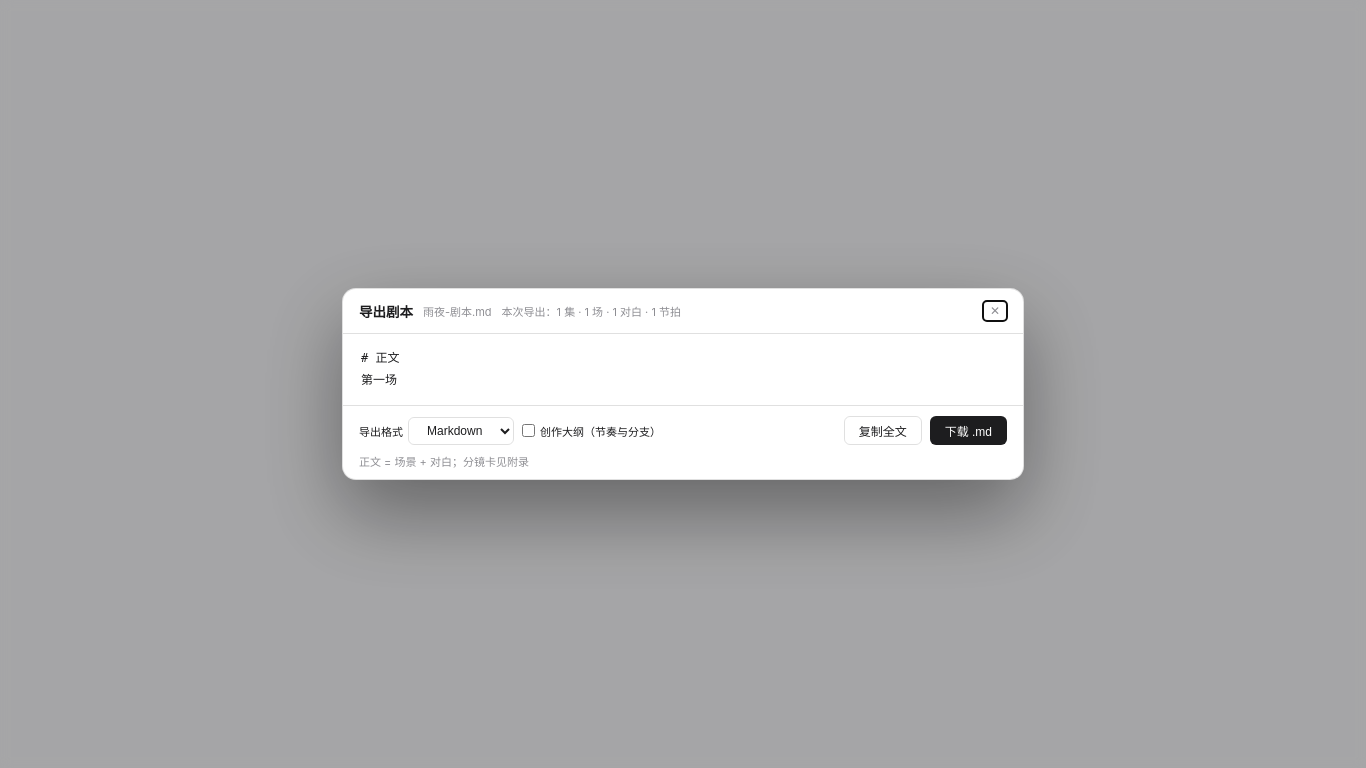
ExportDialog（复制与文本生命周期，review #81） › 成功回执在导出文本更新时立即清除
The image size is (1366, 768).
Click the button "复制全文": click(883, 431) left=844, top=416, right=922, bottom=445
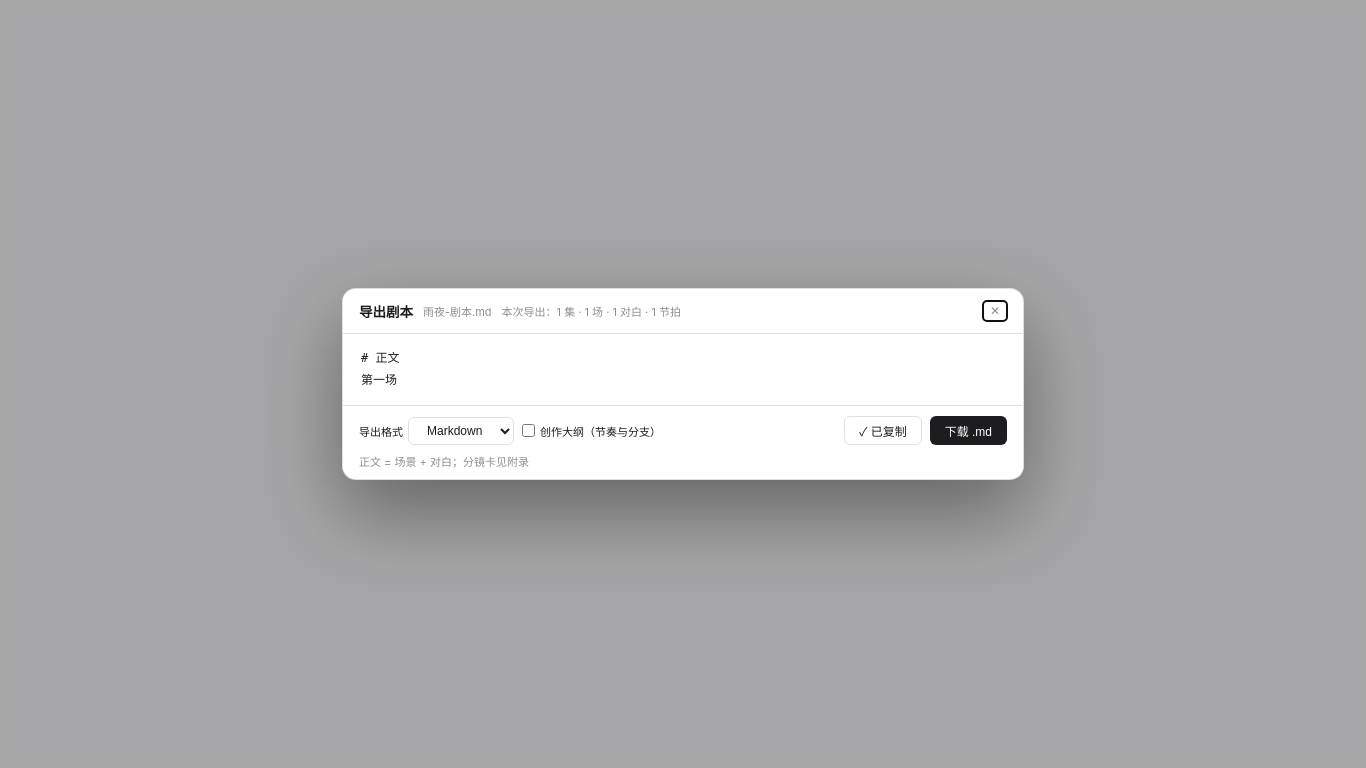
Expected: the button "✓ 已复制" is shown, left=844, top=416, right=922, bottom=445
